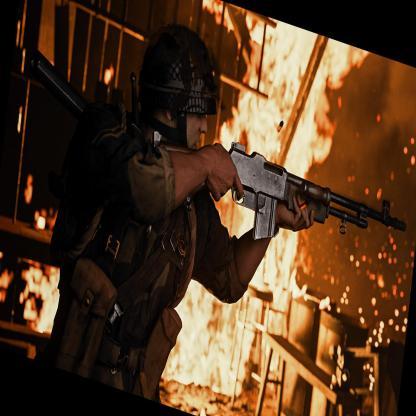rifle: (149, 103, 416, 290)
